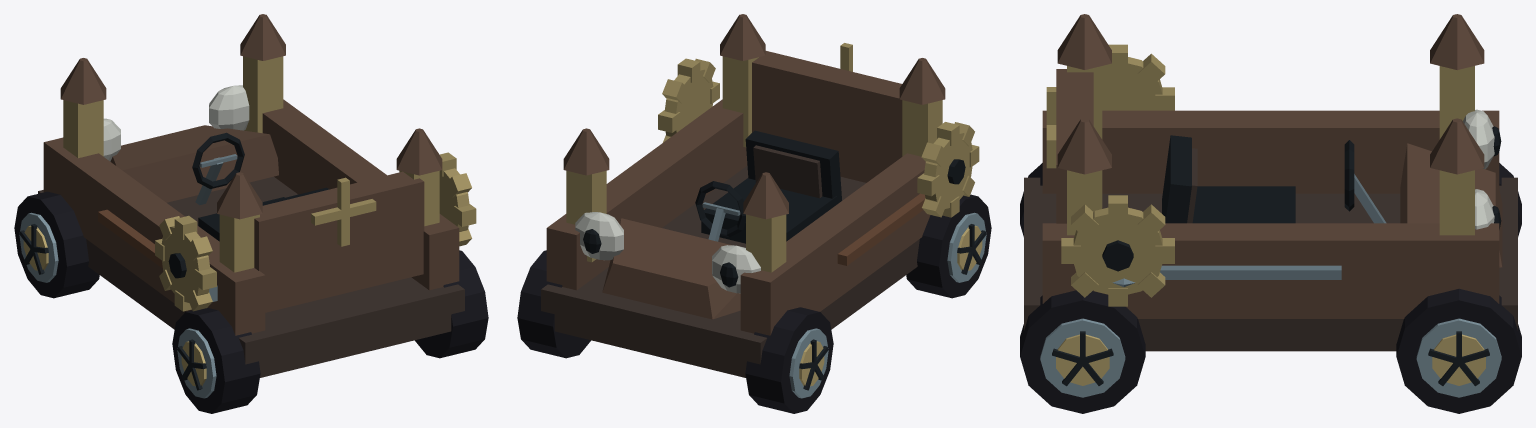
Rendered from kart.glb.
3 renders of one model, left to right at view 1: azimuth 30°, elevation 25°; view 2: azimuth 150°, elevation 25°; view 3: azimuth 270°, elevation 25°, orthographic. The views are drawn at different scales.
Parts seen in each view (by area): view 1: identity-reliquary-reliquary-arched-stone-chest, wheel-rear-left, identity-reliquary-motif-gears, wheel-front-left, wheel-rear-right, identity-reliquary-driver-cockpit, identity-reliquary-motif-eyes, identity-reliquary-motif-tools; view 2: identity-reliquary-reliquary-arched-stone-chest, identity-reliquary-driver-cockpit, identity-reliquary-motif-gears, wheel-front-left, wheel-rear-left, identity-reliquary-motif-eyes, wheel-front-right, identity-reliquary-motif-tools; view 3: identity-reliquary-reliquary-arched-stone-chest, identity-reliquary-motif-gears, wheel-front-right, wheel-rear-right, identity-reliquary-driver-cockpit, identity-reliquary-motif-tools, identity-reliquary-motif-eyes.
Part boxes in pixels (x1=…): identity-reliquary-reliquary-arched-stone-chest: x1=38, y1=14, x2=464, y2=377; wheel-rear-left: x1=172, y1=307, x2=260, y2=413; identity-reliquary-motif-gears: x1=155, y1=152, x2=476, y2=311; wheel-front-left: x1=14, y1=191, x2=99, y2=298; wheel-rear-right: x1=415, y1=250, x2=488, y2=358; identity-reliquary-driver-cockpit: x1=192, y1=132, x2=329, y2=241; identity-reliquary-motif-eyes: x1=103, y1=85, x2=249, y2=161; identity-reliquary-motif-tools: x1=98, y1=209, x2=217, y2=301; identity-reliquary-reliquary-arched-stone-chest: x1=541, y1=14, x2=945, y2=377; identity-reliquary-driver-cockpit: x1=695, y1=130, x2=841, y2=243; identity-reliquary-motif-gears: x1=658, y1=58, x2=979, y2=217; wheel-front-left: x1=745, y1=307, x2=833, y2=413; wheel-rear-left: x1=906, y1=194, x2=991, y2=298; identity-reliquary-motif-eyes: x1=575, y1=212, x2=760, y2=293; wheel-front-right: x1=517, y1=250, x2=590, y2=358; identity-reliquary-motif-tools: x1=837, y1=193, x2=925, y2=265; identity-reliquary-reliquary-arched-stone-chest: x1=1024, y1=14, x2=1517, y2=351; identity-reliquary-motif-gears: x1=1061, y1=44, x2=1174, y2=306; wheel-front-right: x1=1396, y1=288, x2=1521, y2=413; wheel-rear-right: x1=1020, y1=290, x2=1145, y2=413; identity-reliquary-driver-cockpit: x1=1162, y1=135, x2=1386, y2=223; identity-reliquary-motif-tools: x1=1112, y1=265, x2=1341, y2=286; identity-reliquary-motif-eyes: x1=1463, y1=109, x2=1501, y2=229.
Size of the model in its own units: 1.97 by 1.51 by 2.56.
